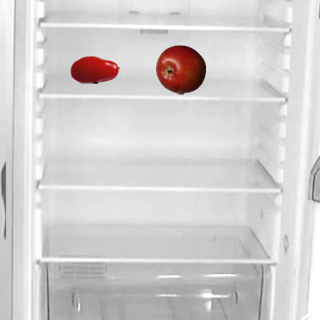Apple Braeburn: (155, 44, 205, 94)
Tomato 2: (69, 44, 119, 94)
